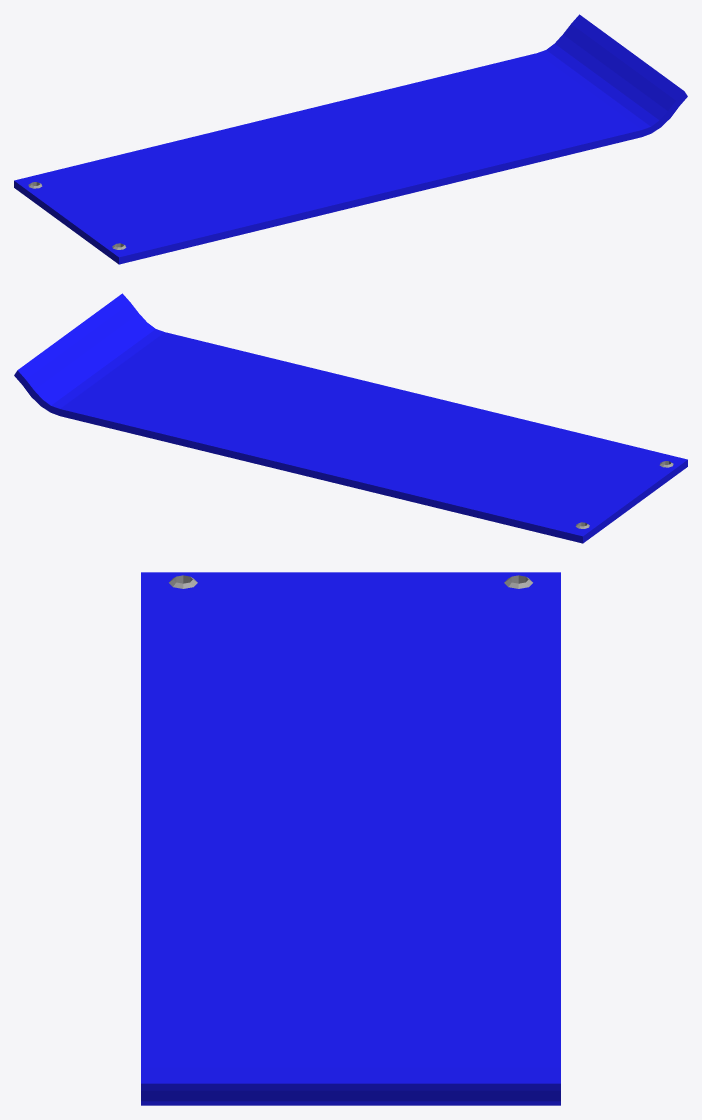
Rendered from BlueMat.001.fbx.
The picture shows the model from 3 angles, top to bottom: view 1: azimuth 30°, elevation 25°; view 2: azimuth 150°, elevation 25°; view 3: azimuth 270°, elevation 25°; orthographic projection. The views are drawn at different scales.
Visible parts, largest first — view 1: BlueMat.001; view 2: BlueMat.001; view 3: BlueMat.001.
Boxes of the visible parts, x1,y1,x2,y2 form: BlueMat.001: [14, 14, 687, 264]; BlueMat.001: [14, 293, 687, 543]; BlueMat.001: [141, 572, 560, 1105].
Size of the model in its own units: 177 by 11.19 by 56.7.
